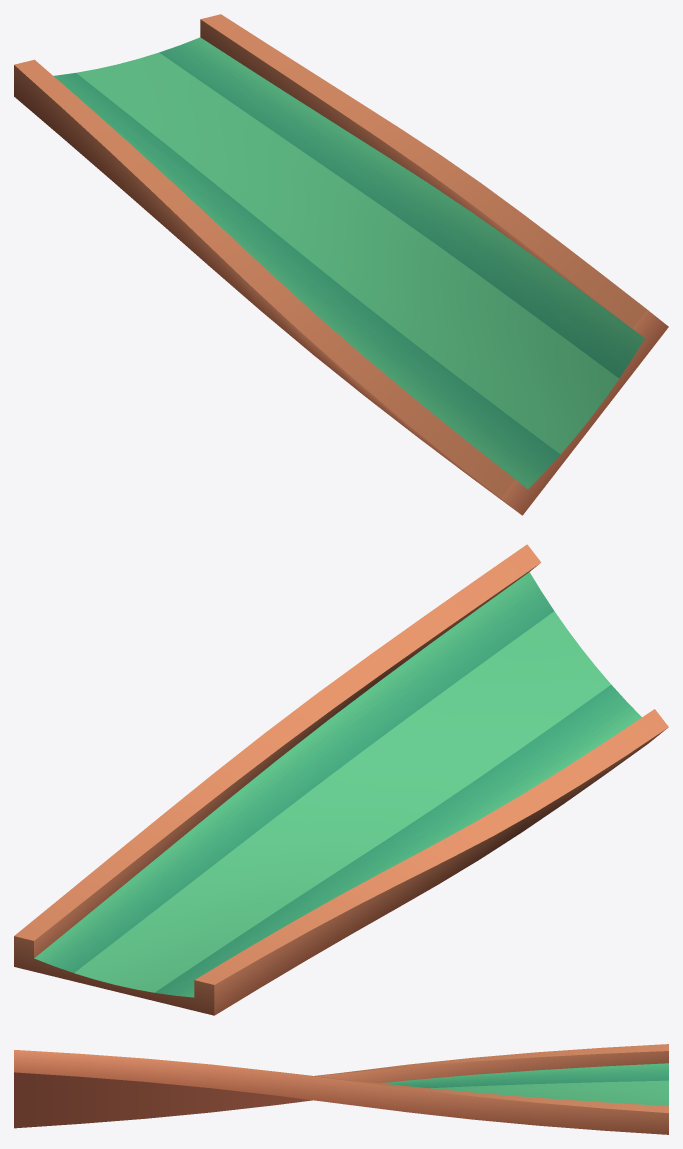
Rendered from spline-concave-straight-skew-right.glb.
3 renders of one model, top to bottom at view 1: azimuth 30°, elevation 25°; view 2: azimuth 150°, elevation 25°; view 3: azimuth 270°, elevation 25°, orthographic. The views are drawn at different scales.
Visible parts, largest first — view 1: spline-concave-straight-skew-right; view 2: spline-concave-straight-skew-right; view 3: spline-concave-straight-skew-right.
Boxes of the visible parts, x1,y1,x2,y2 form: spline-concave-straight-skew-right: (14,14,668,515); spline-concave-straight-skew-right: (14,544,668,1015); spline-concave-straight-skew-right: (14,1044,668,1134).
Size of the model in its own units: 1.02 by 0.8106 by 4.
1 material, 1 textured.
